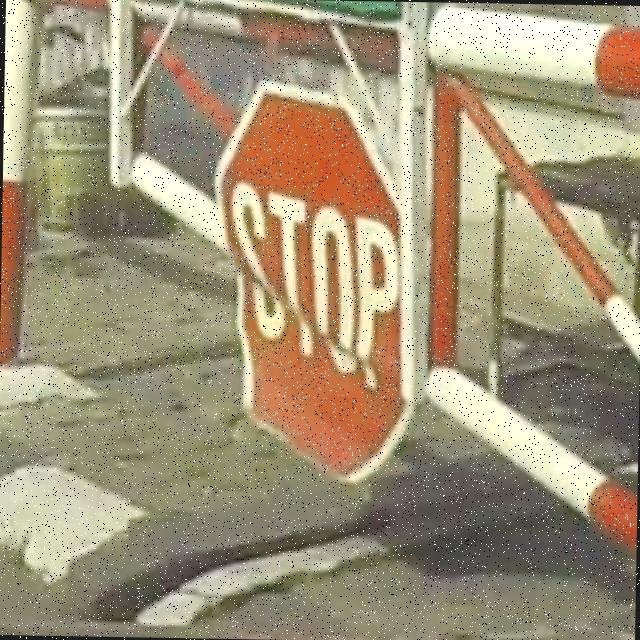Stop: (219, 79, 415, 478)
